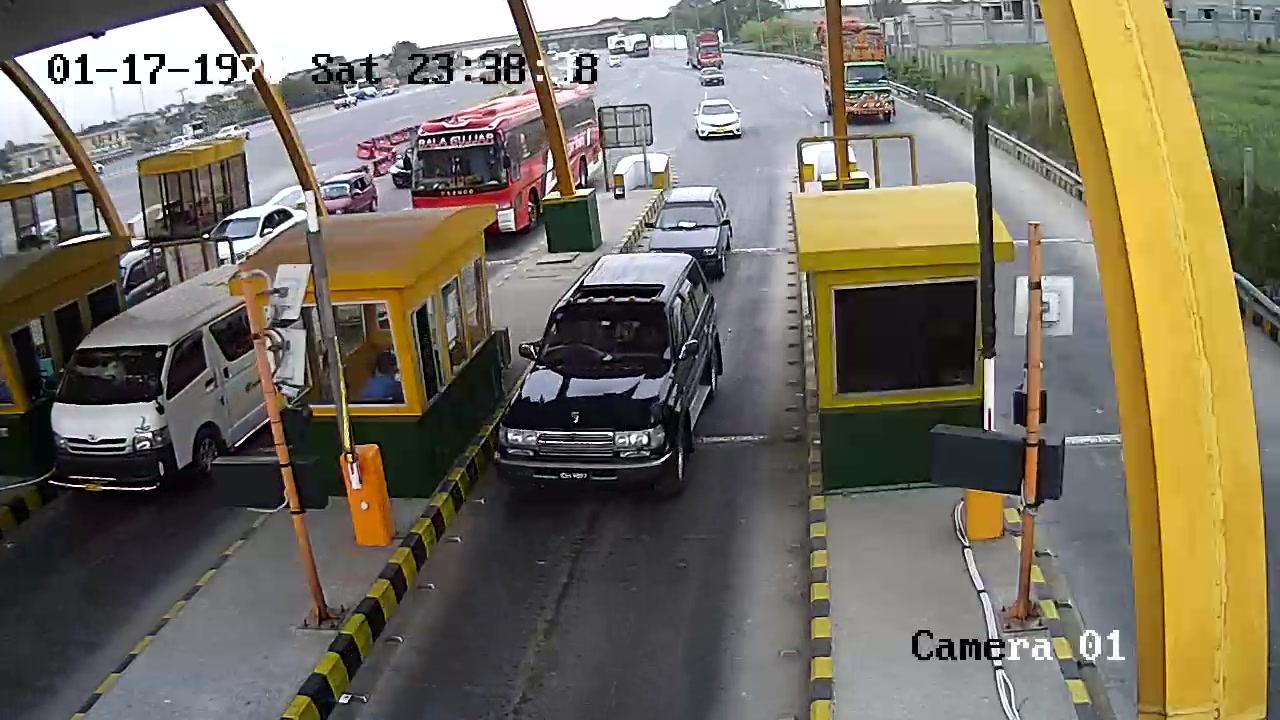F1: (482, 252, 745, 506)
